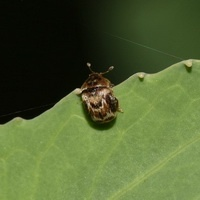insect: (76, 62, 121, 123)
